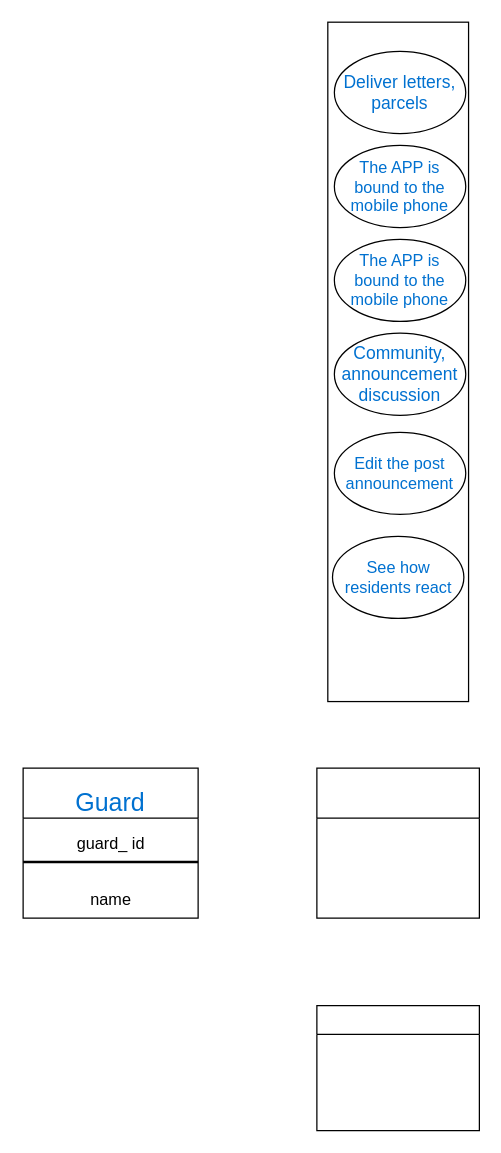
Image size: 501x1153. Some labels were removed from this diagram. The centre of each missing label's shape, as x and y in pixels:
Household: the point at 397,1067
Parcel: the point at 397,842
